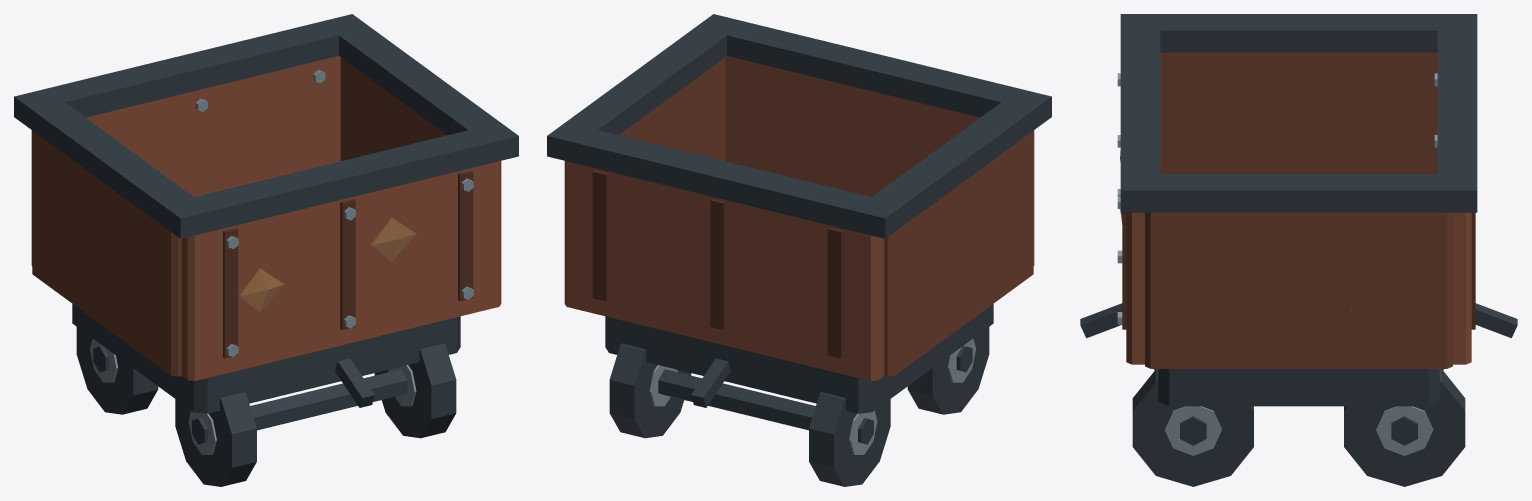
Rendered from mine_cart_rusty.glb.
3 views of the same model, side by side, from view 1: azimuth 30°, elevation 25°; view 2: azimuth 150°, elevation 25°; view 3: azimuth 270°, elevation 25° (orthographic). The views are drawn at different scales.
Parts seen in each view (by area): view 1: geometry; view 2: geometry; view 3: geometry.
Boxes of the visible parts, x1,y1,x2,y2 form: geometry: [14, 14, 518, 486]; geometry: [547, 14, 1051, 486]; geometry: [1080, 14, 1517, 486].
Size of the model in its own units: 0.95 by 0.8175 by 0.9935.
